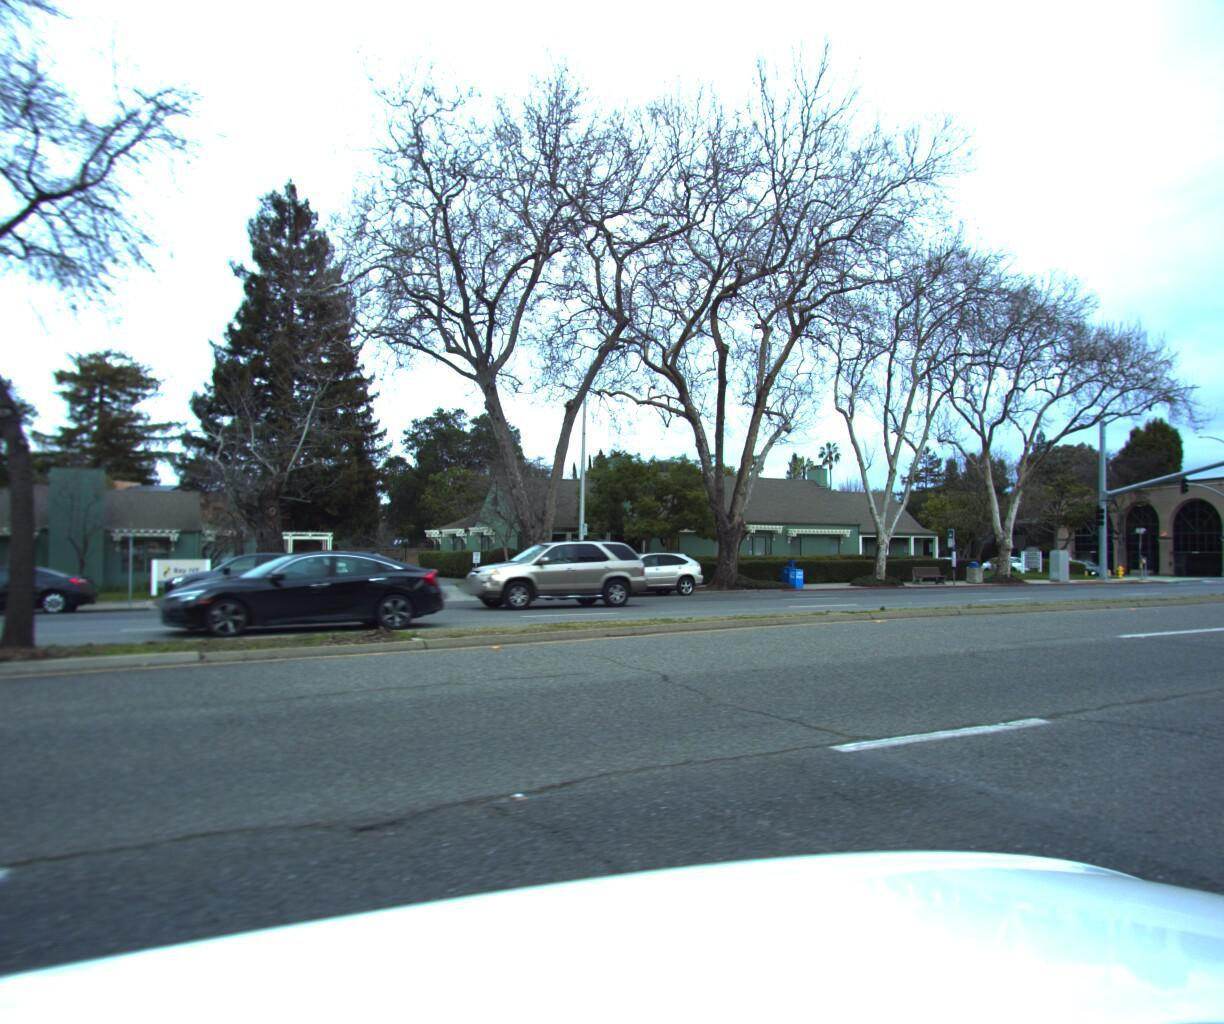car: (152, 549, 448, 645), (460, 542, 649, 612), (161, 548, 327, 613), (577, 549, 703, 597), (0, 562, 99, 623), (974, 550, 1038, 574)
